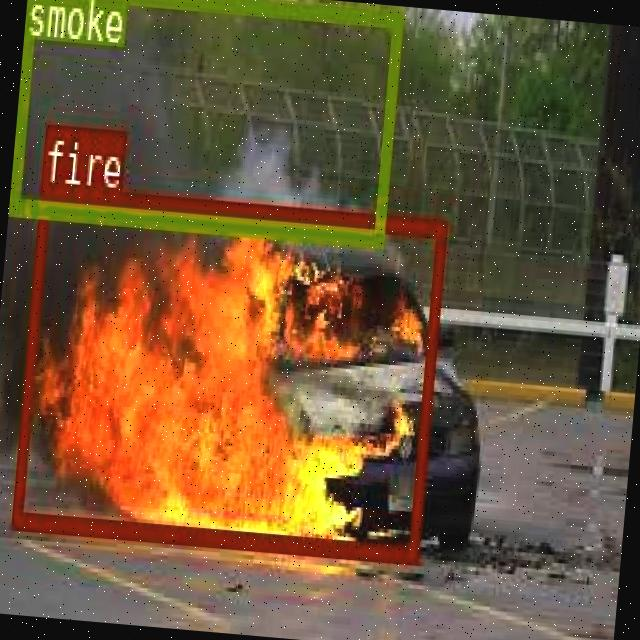fire: (11, 183, 443, 559)
smoke: (8, 0, 399, 243)
